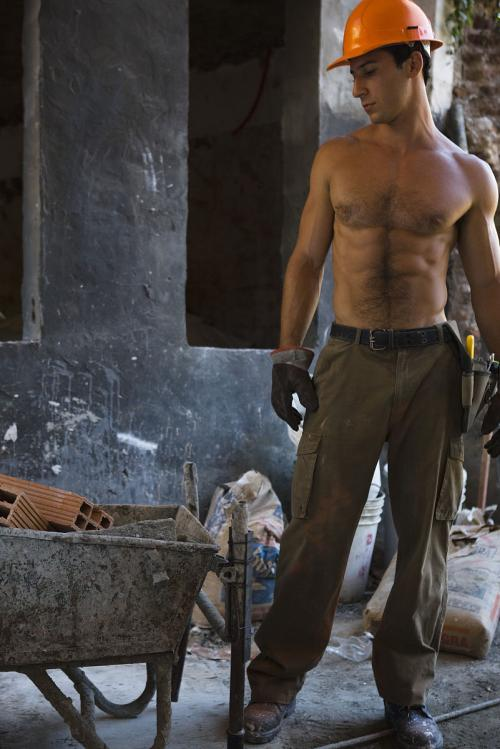boots: (383, 700, 443, 747), (242, 696, 296, 743)
gloves: (269, 347, 319, 431)
hard-hat: (326, 1, 444, 72)
person: (241, 0, 500, 748)
